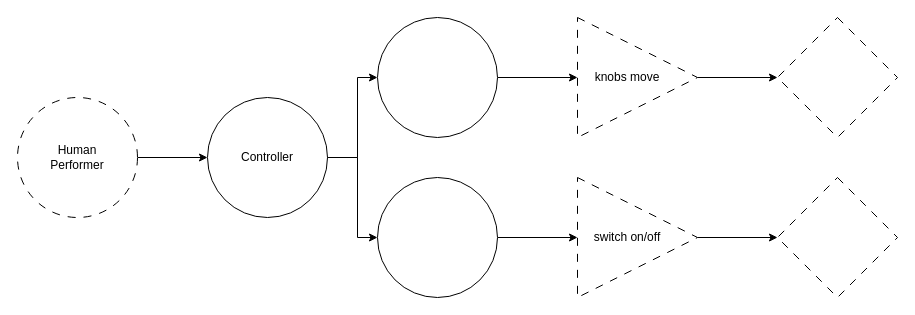
The diagram is 915 pixels wide and 315 high, and some of its shapes have lost their labels. The centre of each missing label's shape, as x and y in pixels:
"knobs (1-6)" belongs at point (437, 77).
"switch (1-6)" belongs at point (437, 237).
